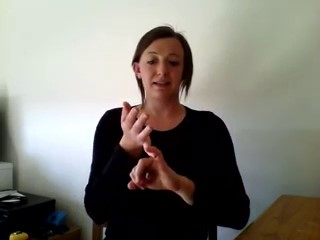S: (115, 96, 182, 196)
